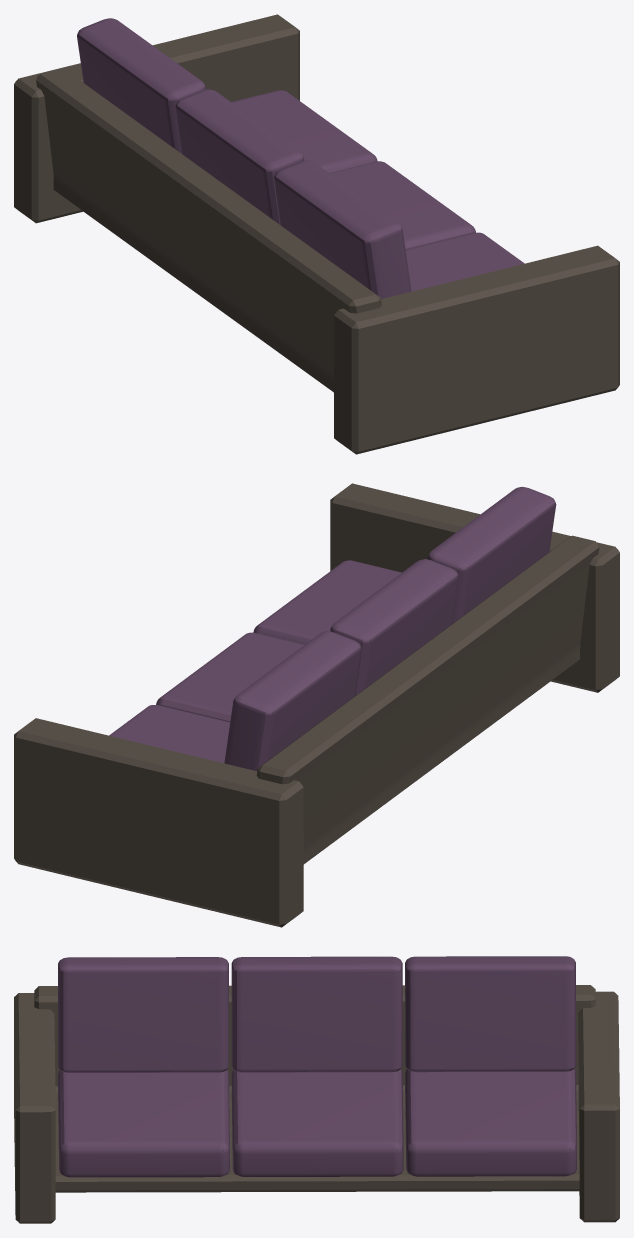
File: Museum_Bench.fbx
3 renders of one model, top to bottom at view 1: azimuth 30°, elevation 25°; view 2: azimuth 150°, elevation 25°; view 3: azimuth 270°, elevation 25°, orthographic. The views are drawn at different scales.
Parts seen in each view (by area): view 1: museum_bench; view 2: museum_bench; view 3: museum_bench.
Part boxes in pixels (x1,y1,x2,y2): museum_bench: [14, 14, 619, 454]; museum_bench: [14, 483, 619, 927]; museum_bench: [14, 956, 619, 1223].
Bounding box in the file's own units: 1.93 × 1.32 × 4.17.
